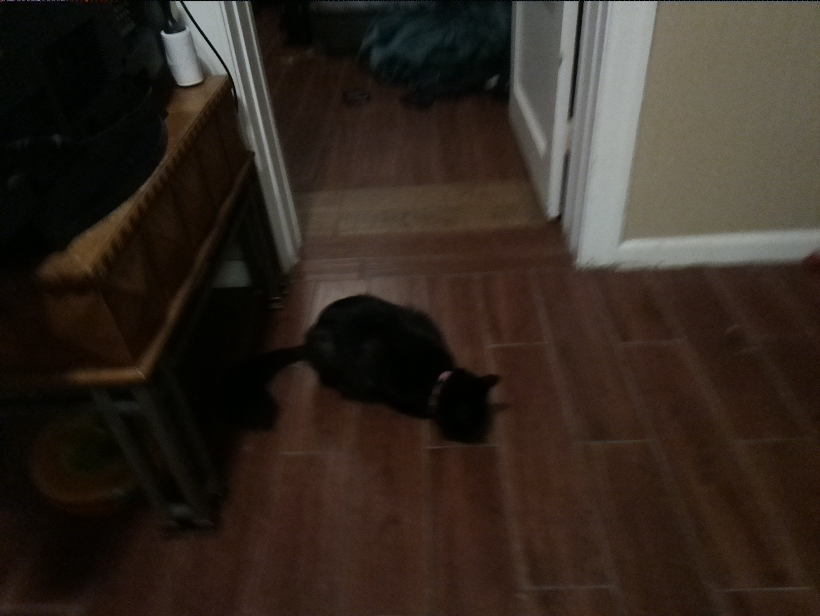cat: (293, 288, 506, 448)
